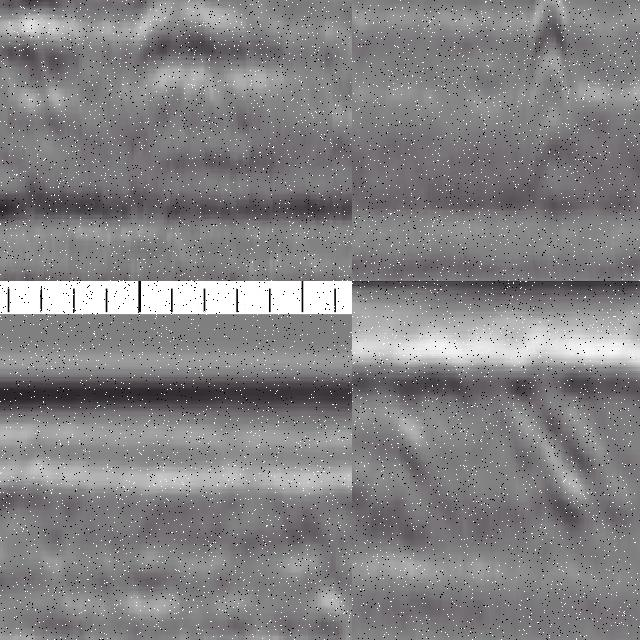crack: (529, 1, 567, 135)
loose: (353, 359, 627, 549), (1, 1, 278, 103)
